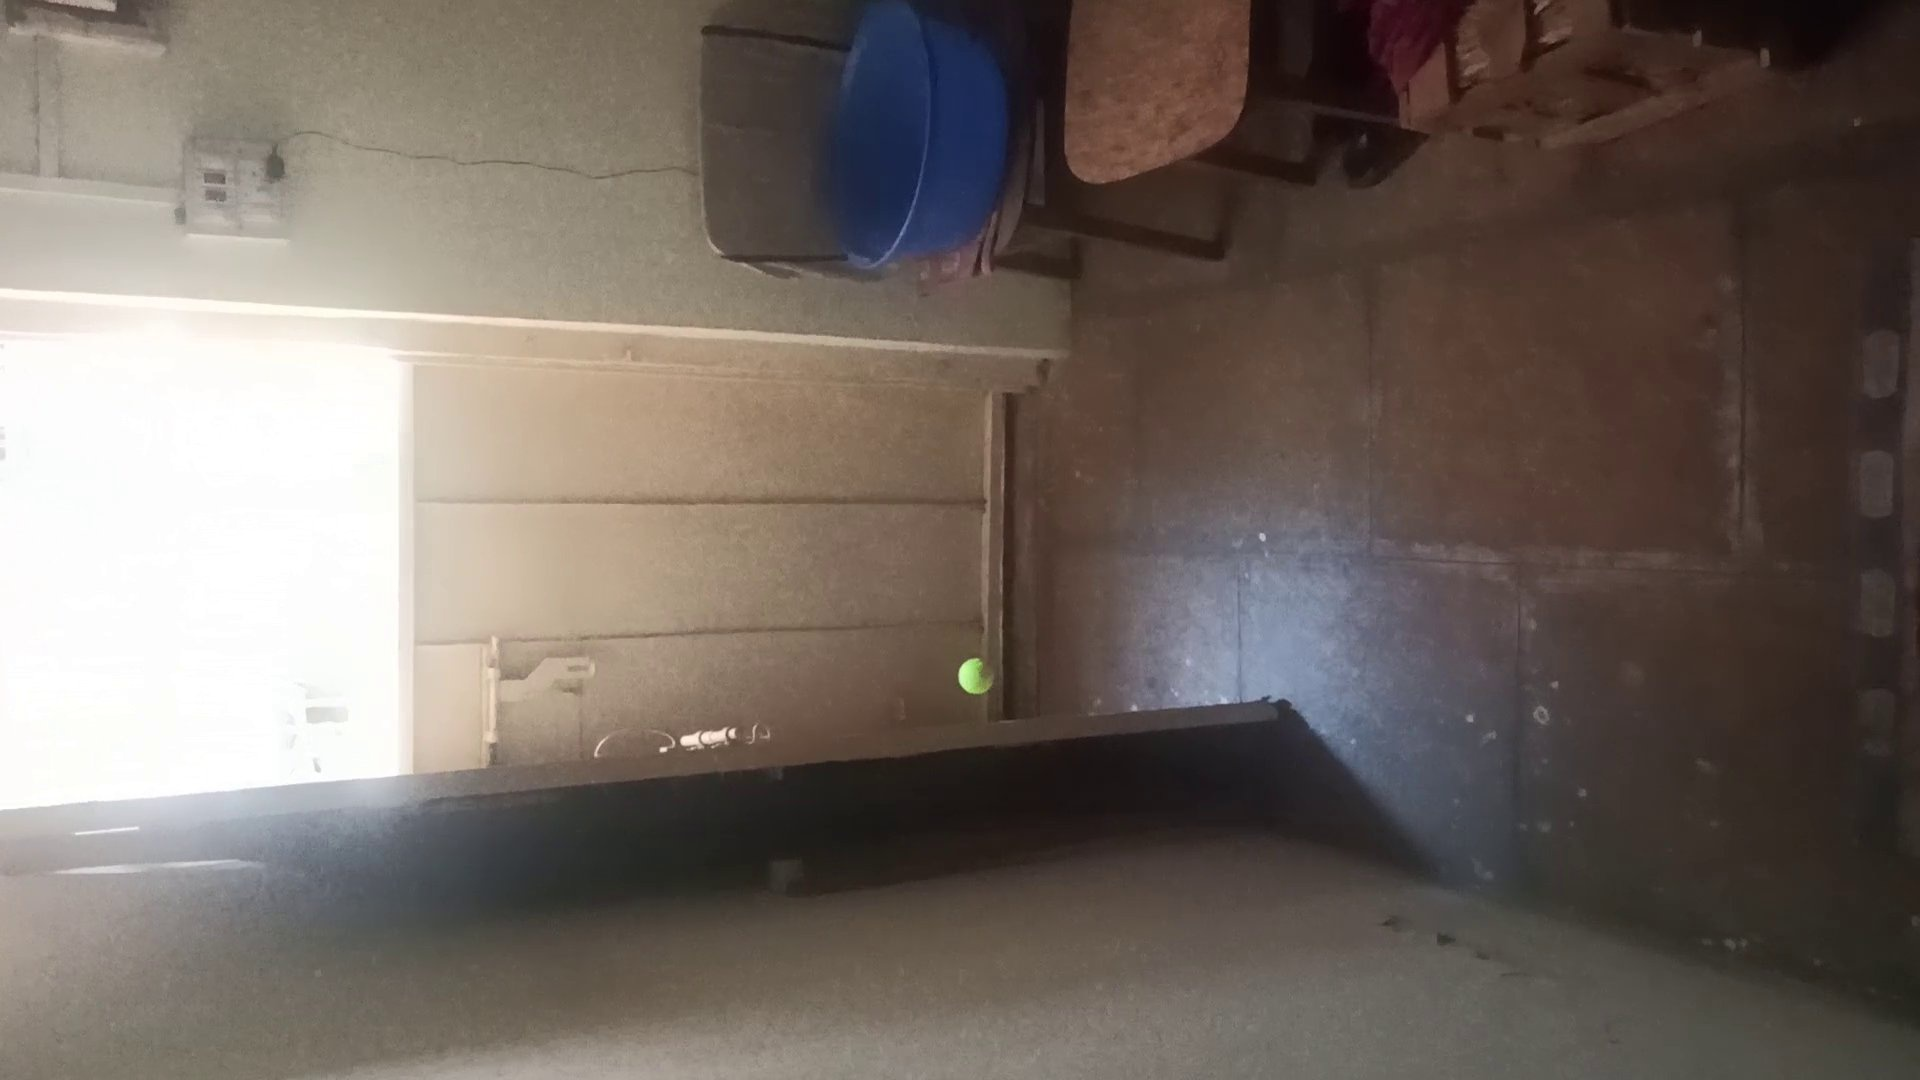Tennis-Ball: (957, 657, 996, 694)
